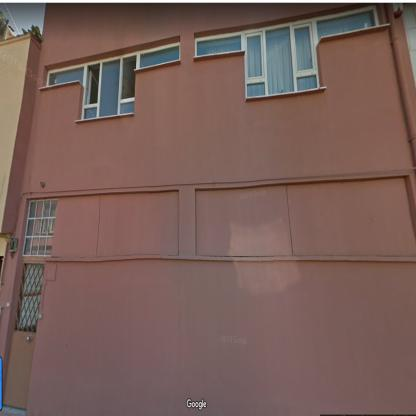door: (3, 265, 44, 408)
window: (194, 6, 378, 96), (46, 42, 179, 119), (24, 199, 57, 254)
